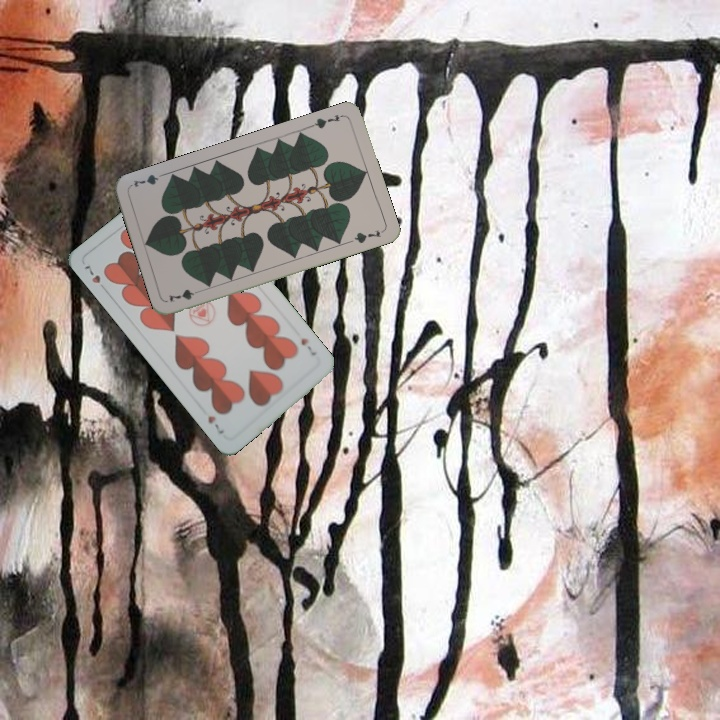G7: (307, 110, 346, 131), (165, 285, 205, 305)
H7: (80, 261, 110, 295), (297, 334, 319, 359)
